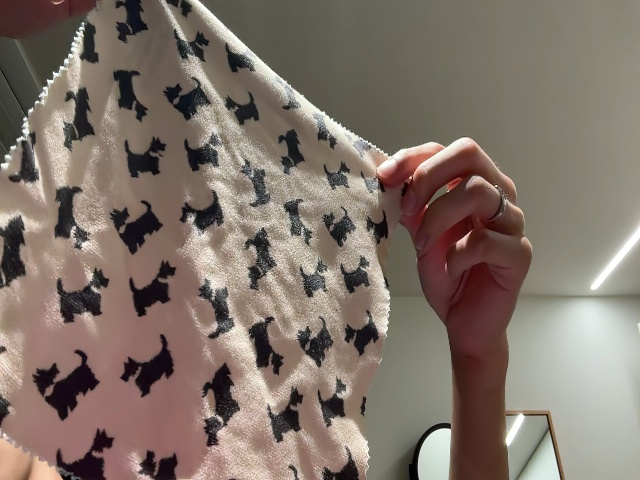towel: (1, 2, 412, 480)
